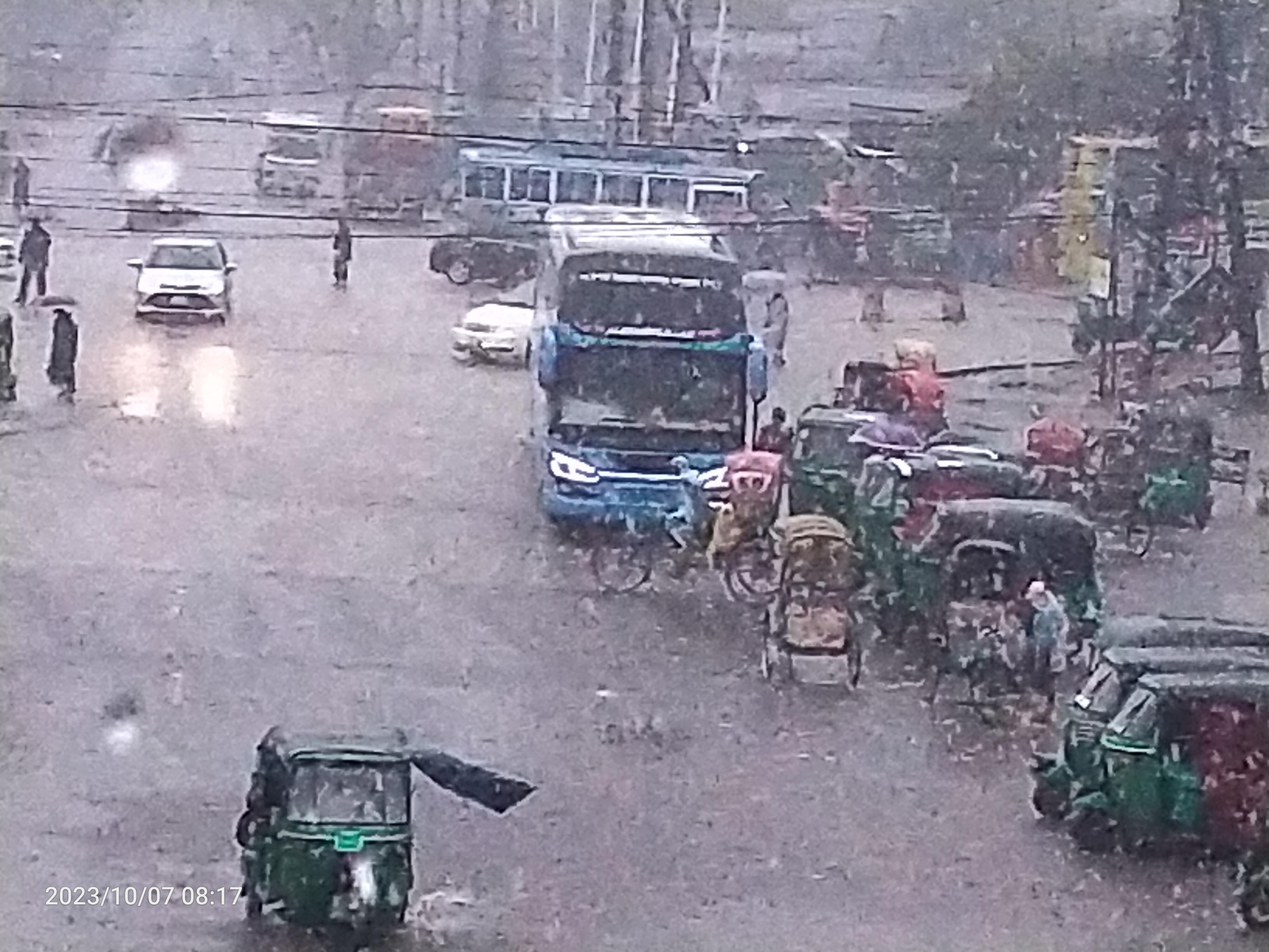Bus: (508, 181, 755, 562), (431, 131, 798, 290), (1050, 116, 1269, 302)
Car: (567, 430, 796, 603), (742, 499, 887, 702), (406, 204, 582, 302), (121, 225, 263, 346), (431, 270, 569, 374), (249, 105, 328, 210)
